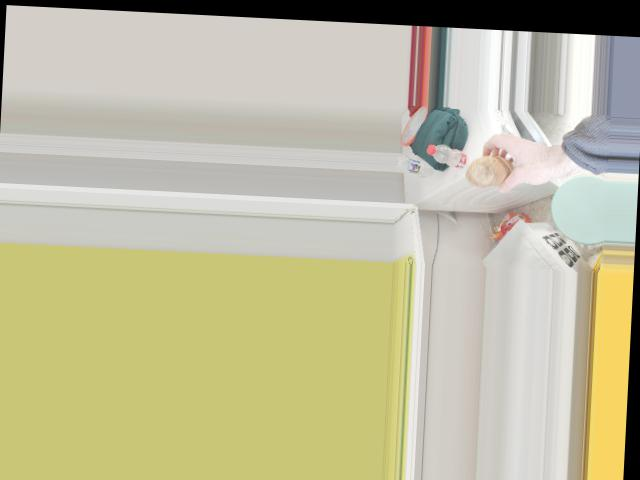sweet_potato: (462, 151, 518, 194)
